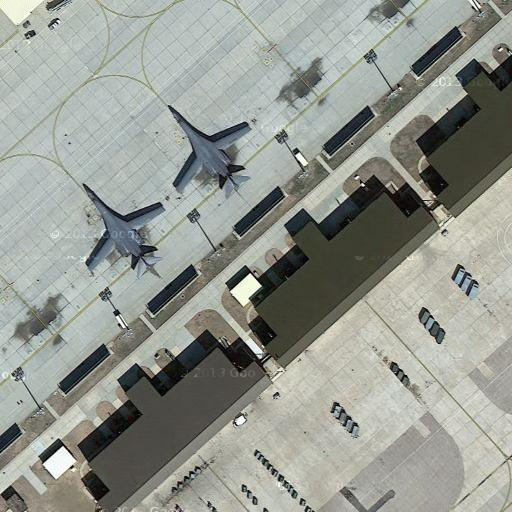B-1B: (165, 103, 256, 205), (78, 181, 167, 276)
